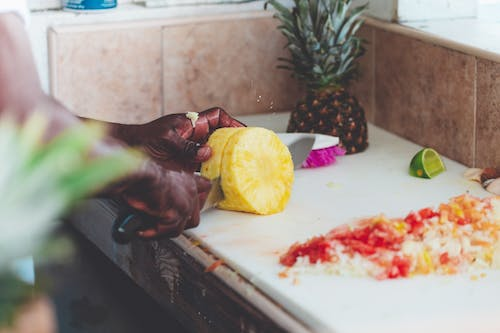knife: (109, 133, 319, 245)
